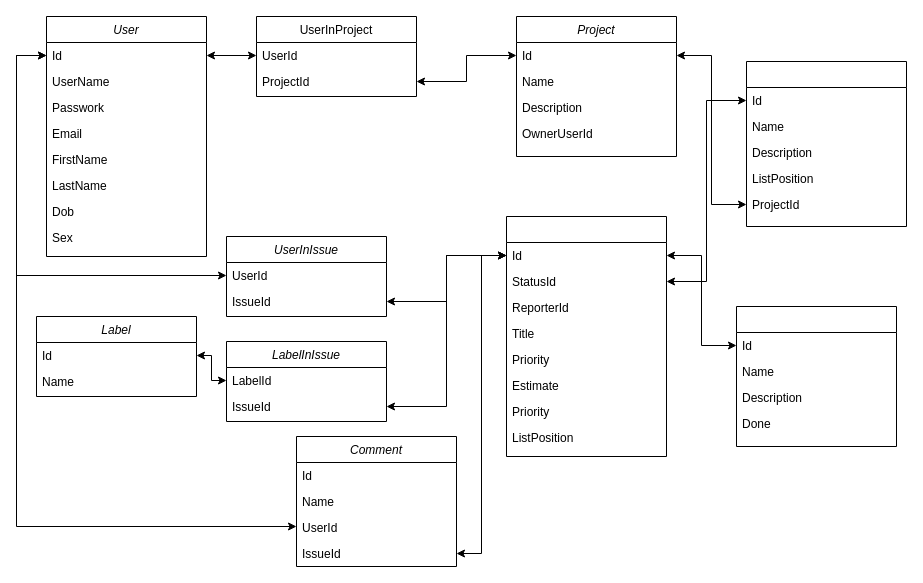
Image size: 923x583. Some labels were removed from this diagram. The box of each missing label's shape, as (x1, y1, x2, y2) in pixels:
Issue: (506, 216, 666, 456)
Status: (746, 60, 906, 226)
ToDo: (736, 306, 896, 446)
